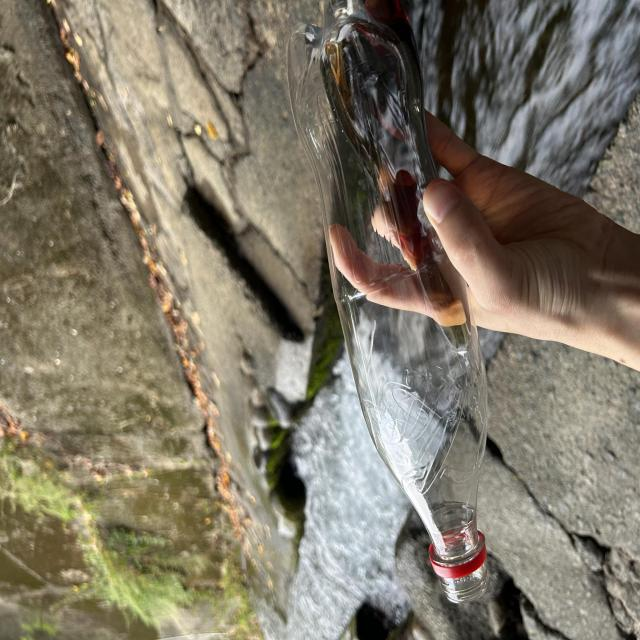low: (288, 0, 488, 602)
